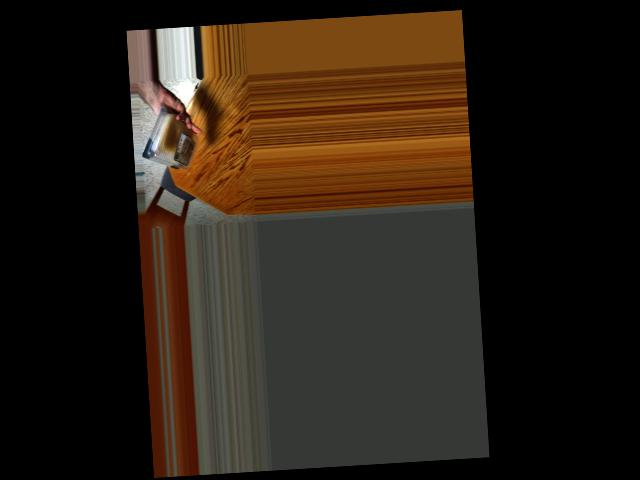cheese: (148, 110, 193, 171)
